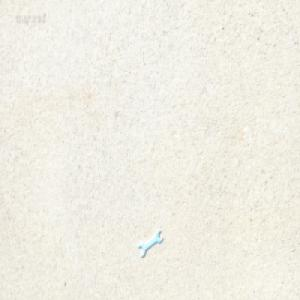Wrench: (139, 229, 164, 258)
